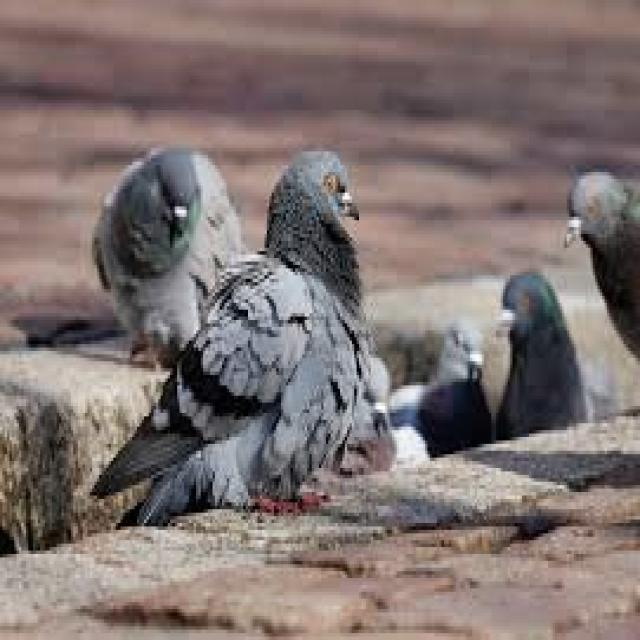pigeon: (92, 148, 373, 523), (92, 148, 243, 365), (494, 272, 586, 437), (564, 172, 638, 358), (390, 323, 489, 454)
